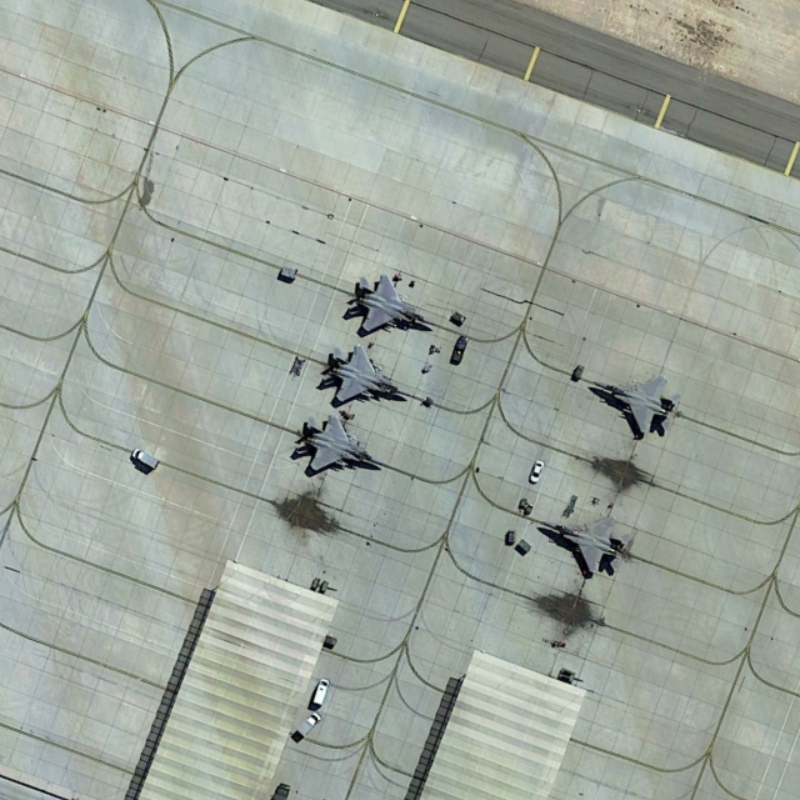A13: (526, 504, 637, 582), (581, 363, 681, 447), (316, 342, 426, 417), (343, 266, 434, 345), (290, 410, 383, 484)
